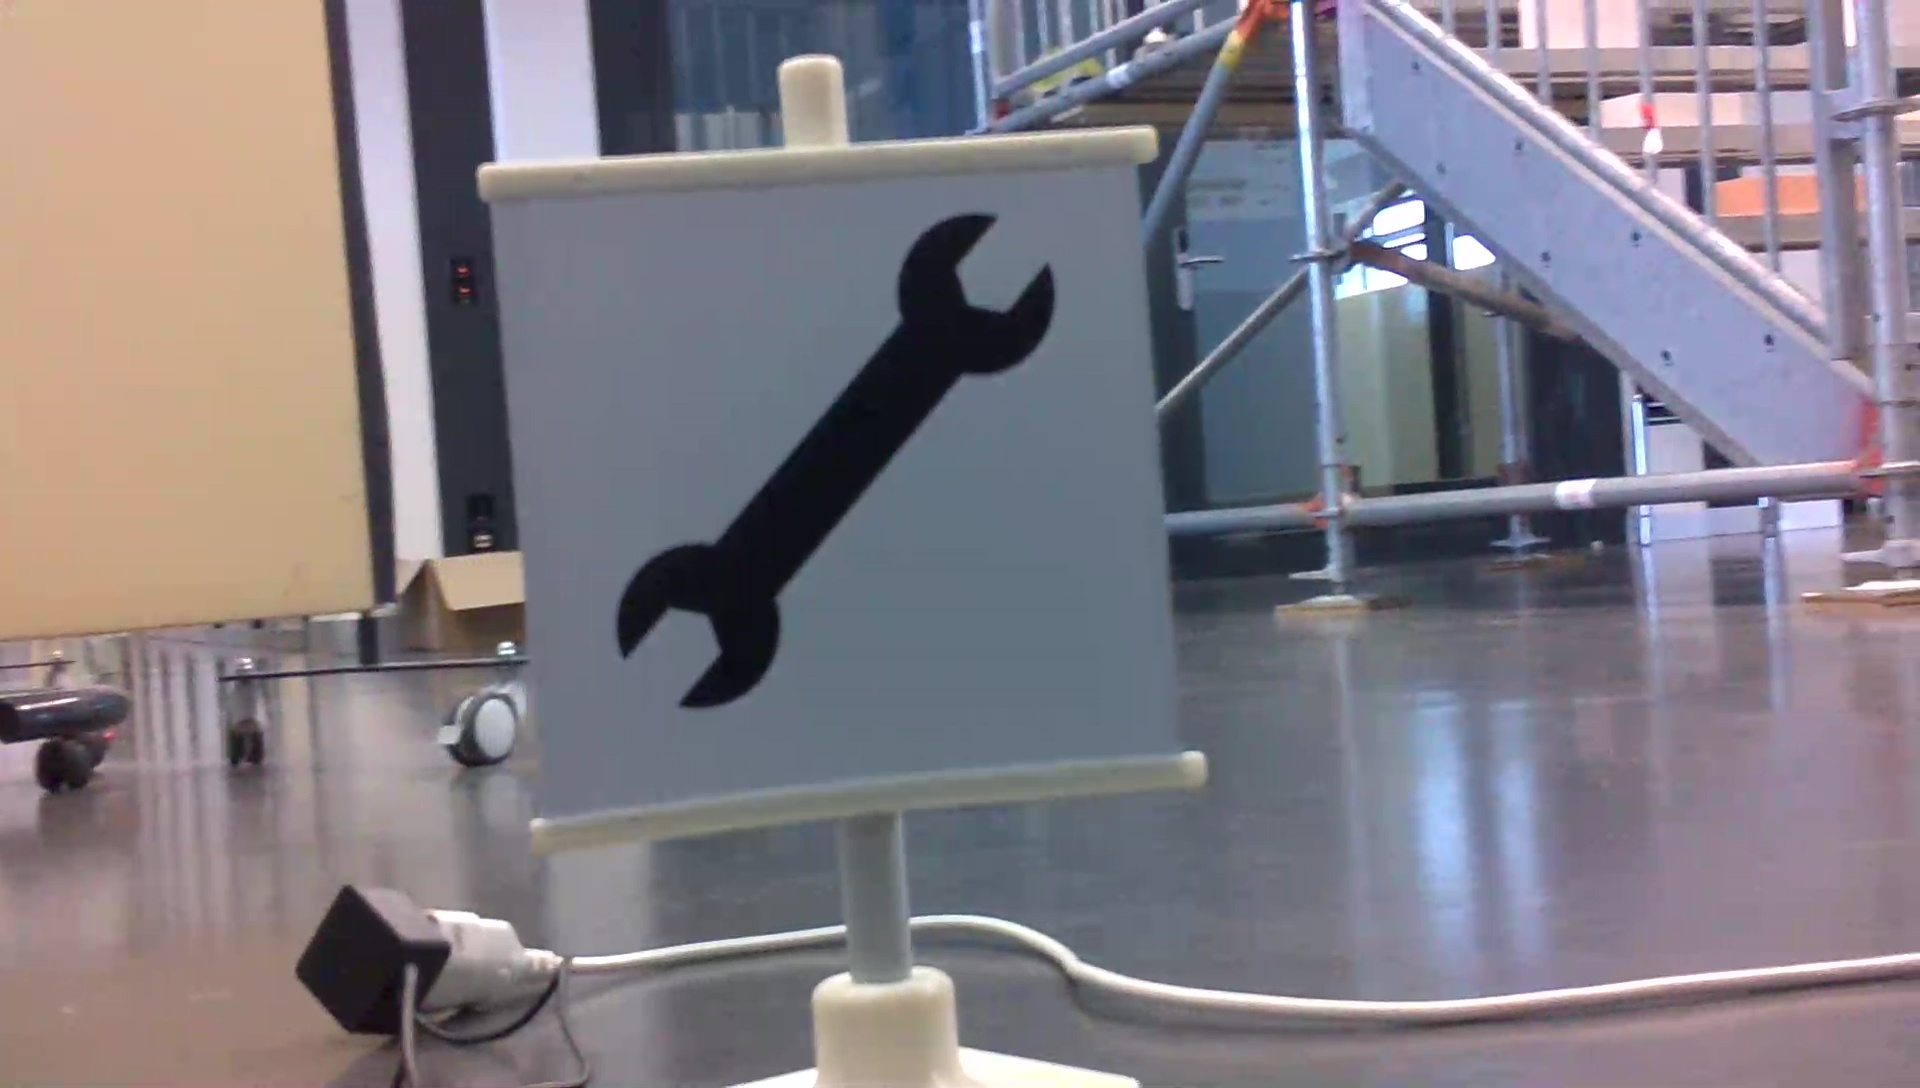wrench: (605, 200, 1069, 727)
